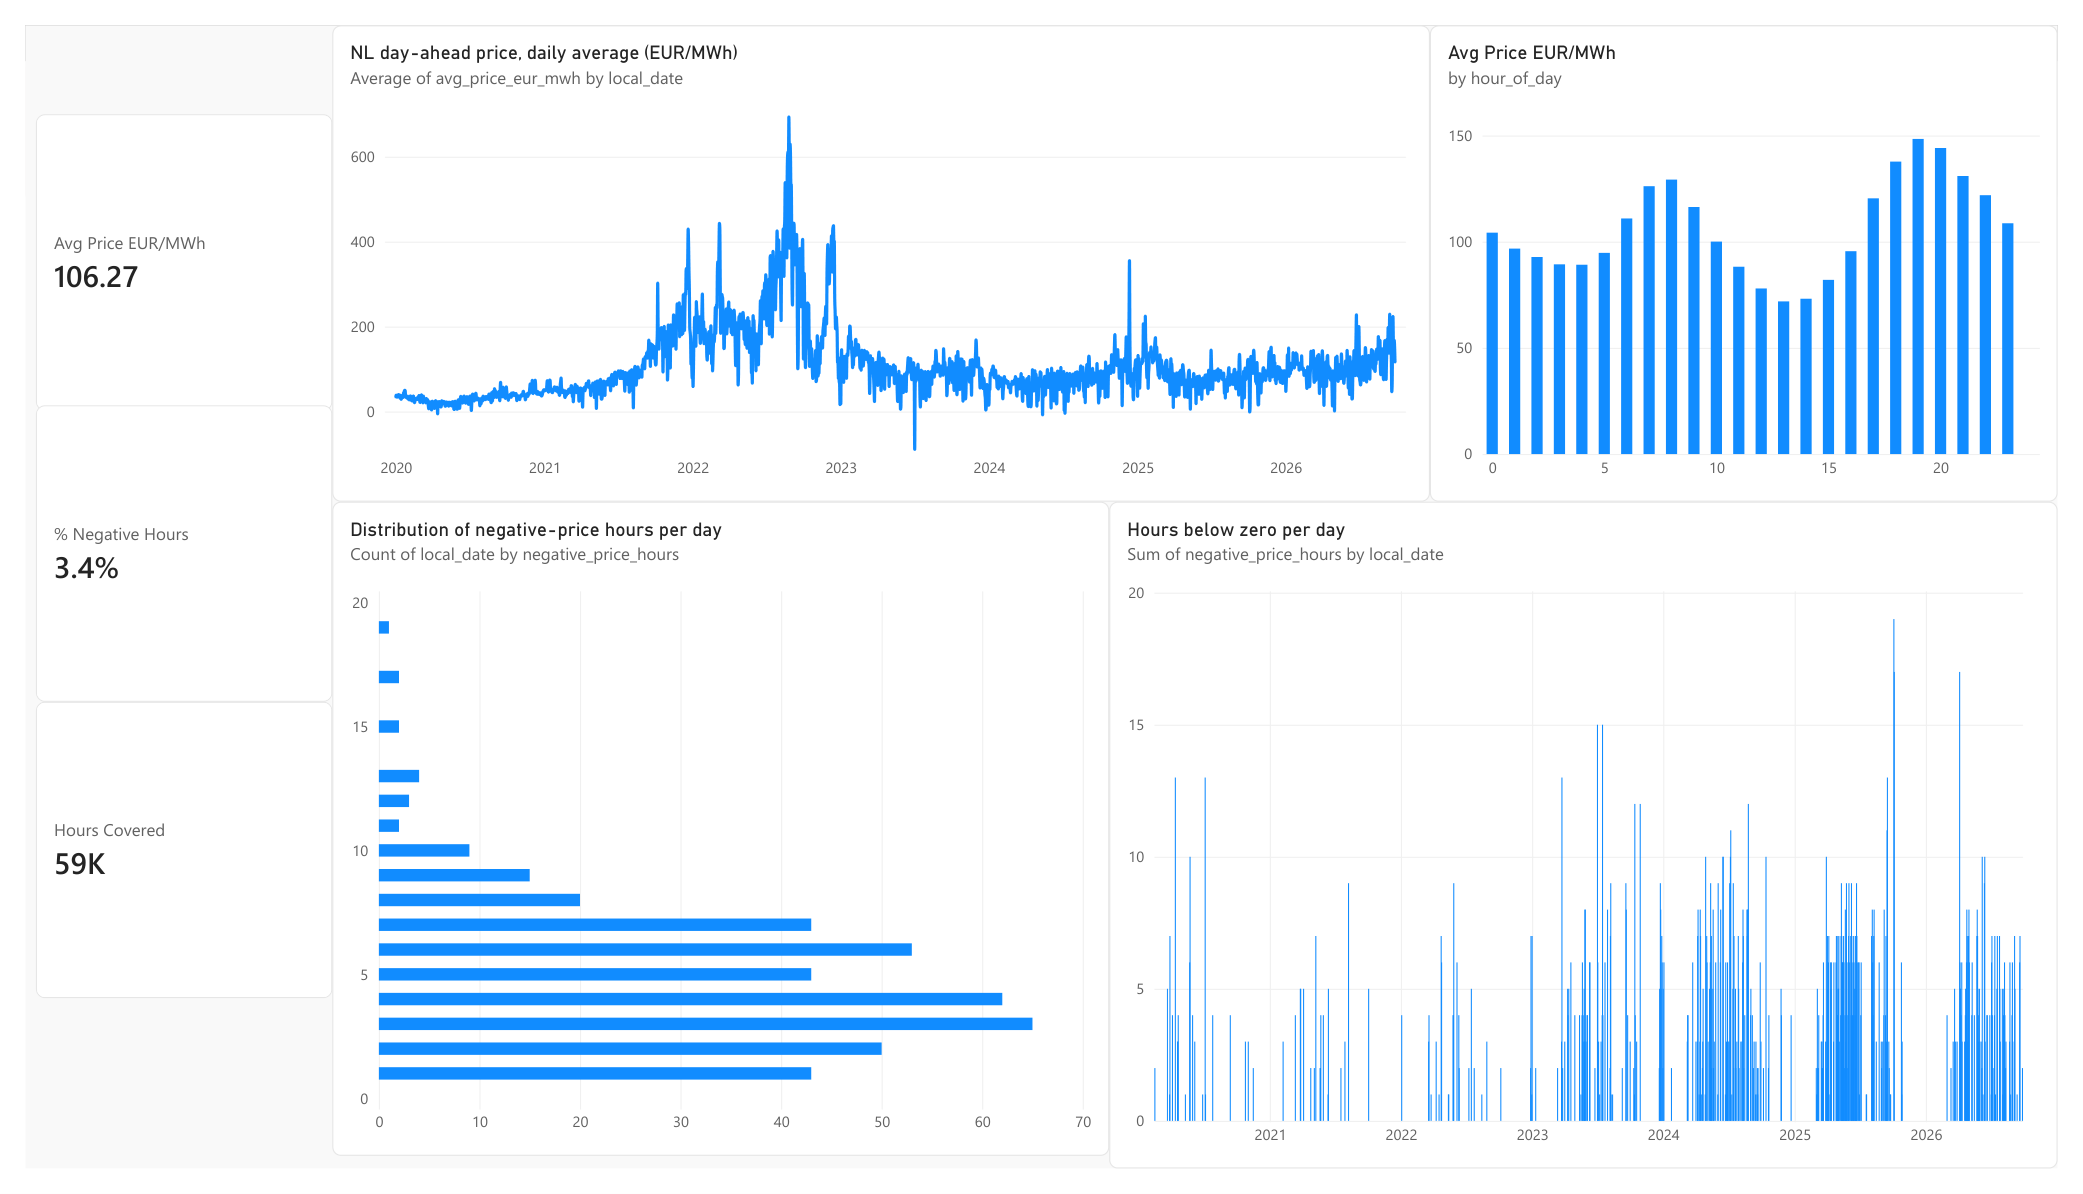

The dashboard page shown, as its layout file describes it:
{"tool":"powerbi","page":{"name":"Page 1","canvas":[1920,1080],"ordinal":0},"visuals":[{"type":"cardVisual","fields":{"Data":["Hourly.Avg Price EUR/MWh"]},"box":[9.8,84.4,280,280],"z":0},{"type":"cardVisual","fields":{"Data":["Hourly.% Negative Hours"]},"box":[9.8,359.3,280,280],"z":1000},{"type":"cardVisual","fields":{"Data":["Hourly.Hours Covered"]},"box":[9.8,639,280,280],"z":2000},{"type":"lineChart","title":"NL day-ahead price, daily average (EUR/MWh)","fields":{"Category":["Daily.local_date"],"Y":["Avg(Daily.avg_price_eur_mwh)"]},"box":[289.6,0,1037.5,449.6],"z":3000},{"type":"barChart","title":"Distribution of negative-price hours per day","fields":{"Category":["Daily.negative_price_hours"],"Y":["CountNonNull(Daily.local_date)"]},"box":[289.6,449.6,734.2,618.4],"z":3001},{"type":"columnChart","fields":{"Category":["Hourly.hour_of_day"],"Y":["Hourly.Avg Price EUR/MWh"]},"box":[1327.1,0,592.9,449.6],"z":3002},{"type":"clusteredColumnChart","title":"Hours below zero per day","fields":{"Category":["Daily.local_date"],"Y":["Sum(Daily.negative_price_hours)"]},"box":[1023.8,449.6,896.2,630.2],"z":3003}]}

Visuals, with their boxes in screenshot pixels (x1, y1, x2, y2), scaled from the page's 1920x1080 canvas onto the 2083x1194 screenshot:
cardVisual - Hourly.Avg Price EUR/MWh: (11, 93, 314, 403)
cardVisual - Hourly.% Negative Hours: (11, 397, 314, 707)
cardVisual - Hourly.Hours Covered: (11, 706, 314, 1016)
"NL day-ahead price, daily average (EUR/MWh)" lineChart: (314, 0, 1440, 497)
"Distribution of negative-price hours per day" barChart: (314, 497, 1111, 1181)
columnChart - Hourly.hour_of_day x Hourly.Avg Price EUR/MWh: (1440, 0, 2082, 497)
"Hours below zero per day" clusteredColumnChart: (1111, 497, 2082, 1193)
